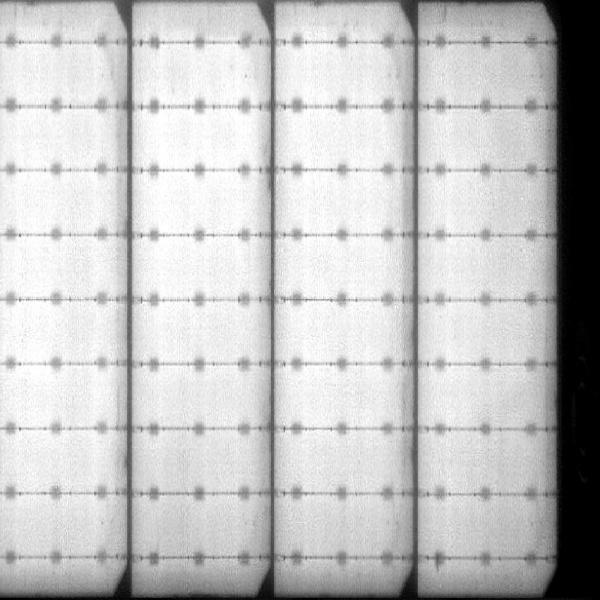no_electricity: (555, 3, 600, 598)
